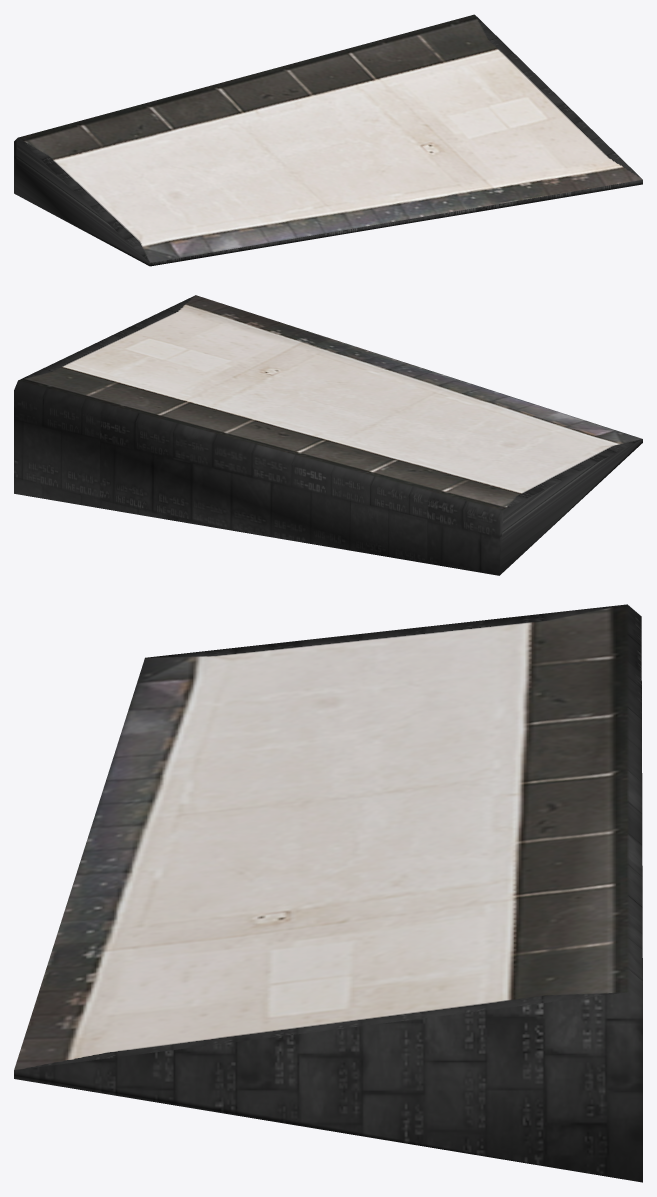
File: flaps.fbx
3 renders of one model, top to bottom at view 1: azimuth 30°, elevation 25°; view 2: azimuth 150°, elevation 25°; view 3: azimuth 270°, elevation 25°, orthographic. The views are drawn at different scales.
Parts seen in each view (by area): view 1: Flaps; view 2: Flaps; view 3: Flaps.
Boxes of the visible parts, x1,y1,x2,y2 form: Flaps: (14,14,642,266); Flaps: (14,295,642,575); Flaps: (14,604,642,1182).
Bounding box in the file's own units: 16.48 × 3.58 × 10.71.
Materials: 1 (1 with a texture image).
